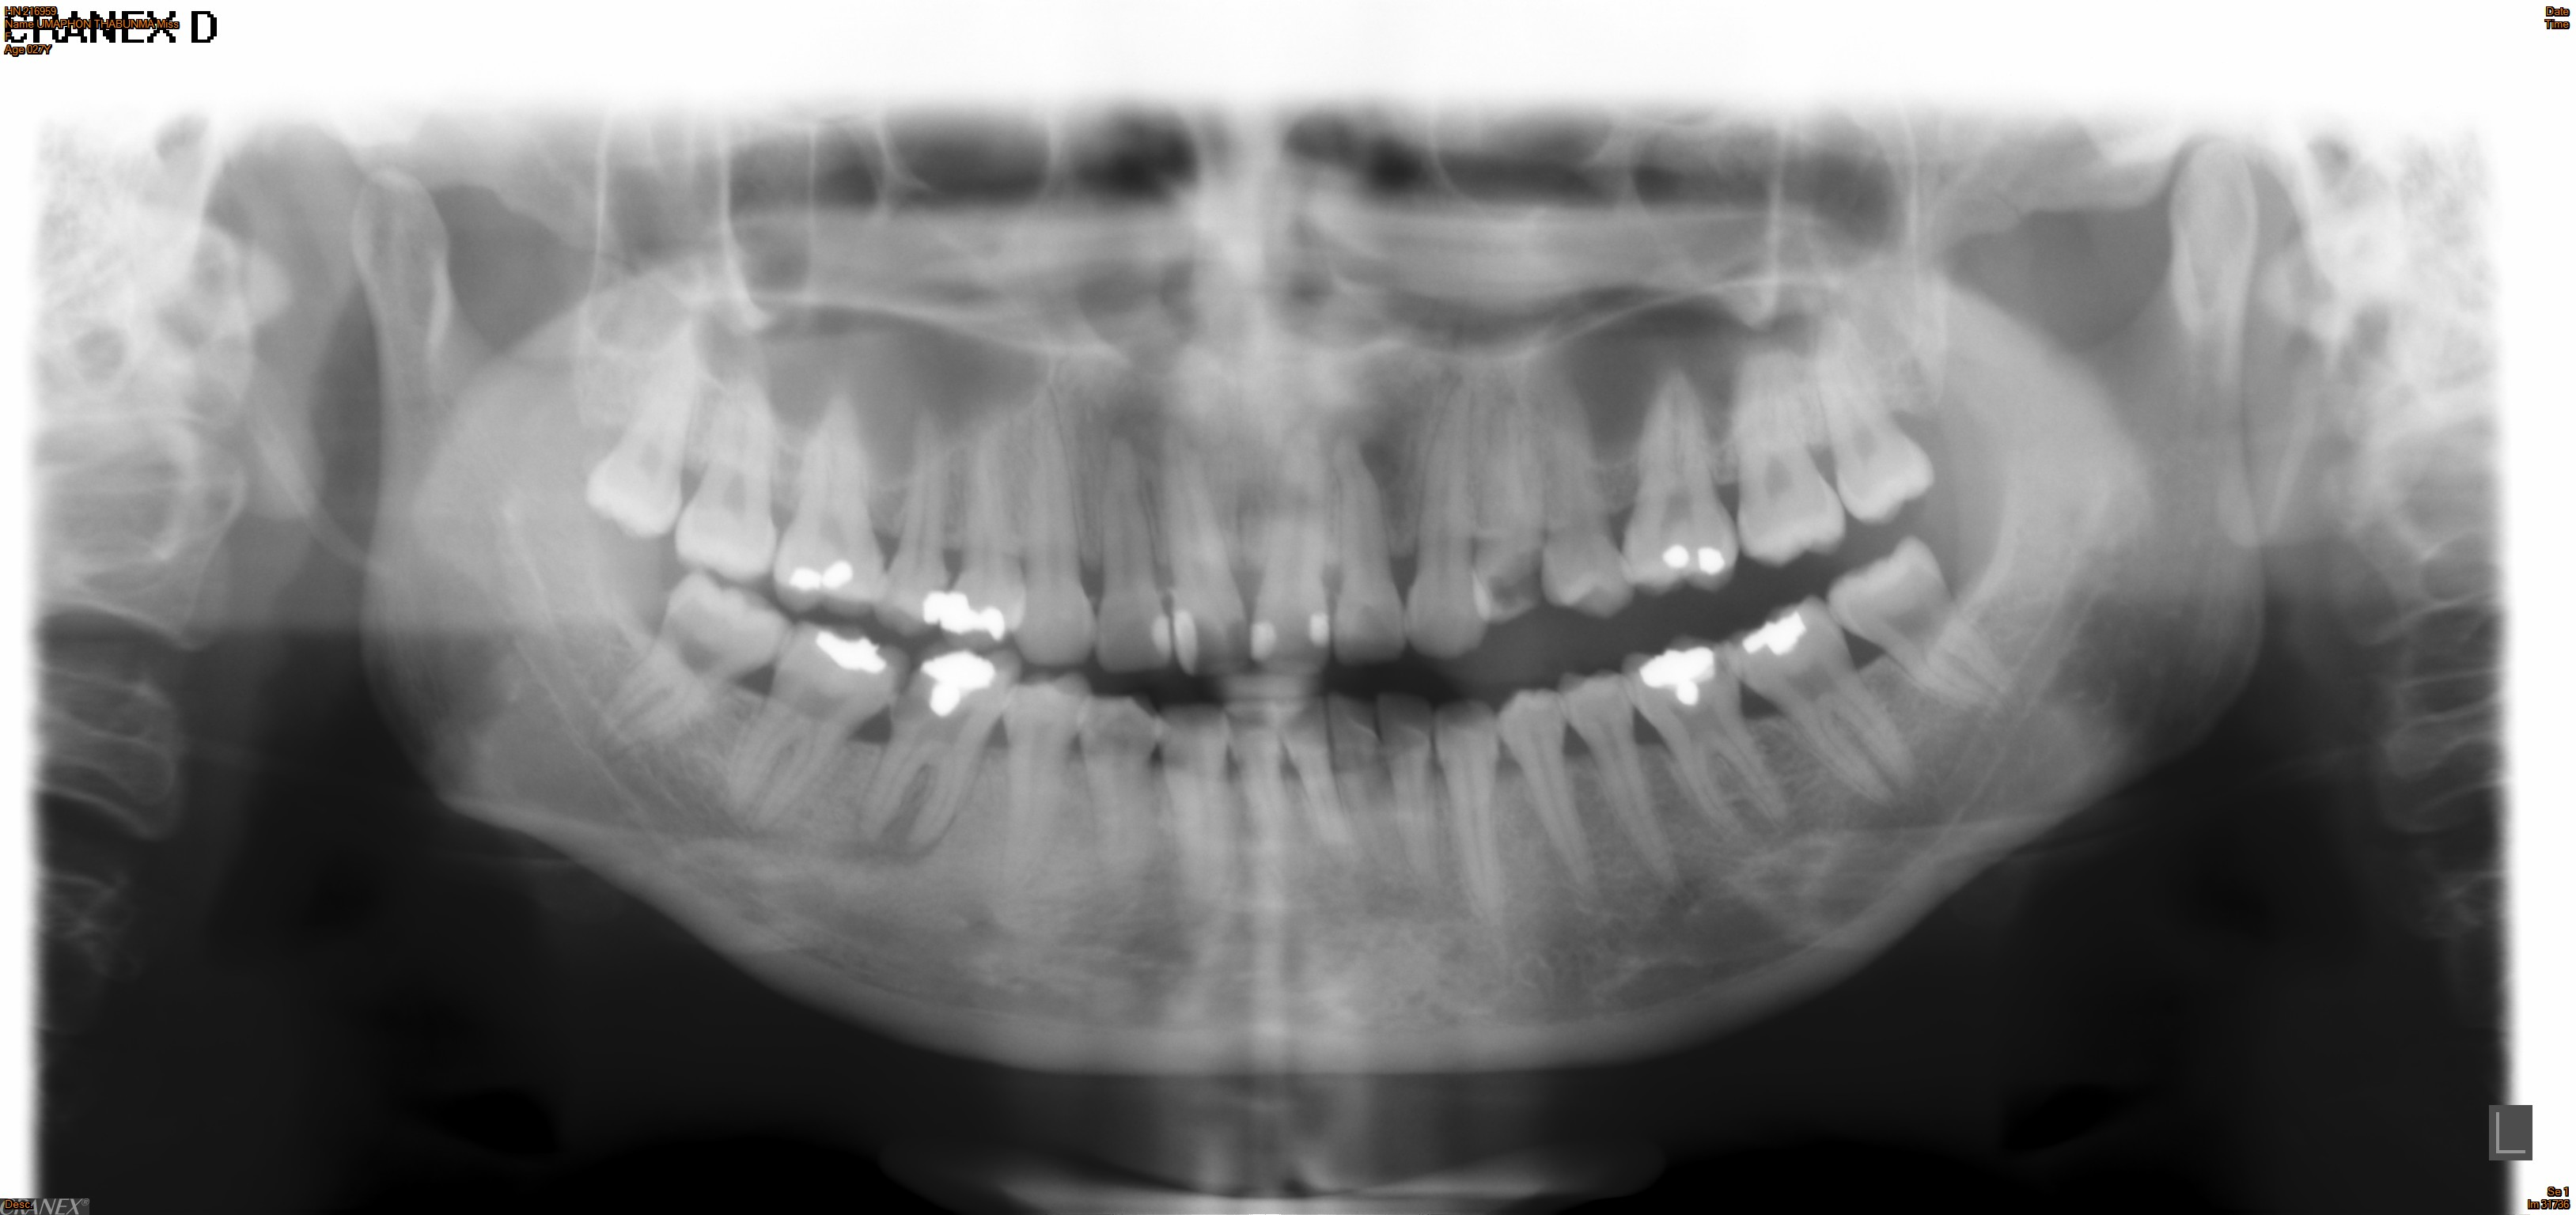periodontitis: (710, 603, 912, 865), (1725, 594, 1925, 839), (861, 634, 1023, 869), (1620, 635, 1797, 847)
